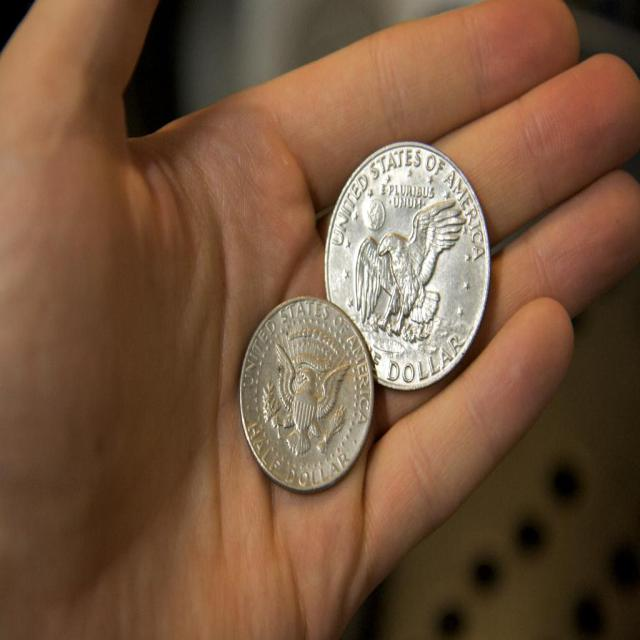Coin: (321, 140, 494, 395), (235, 294, 380, 499)
